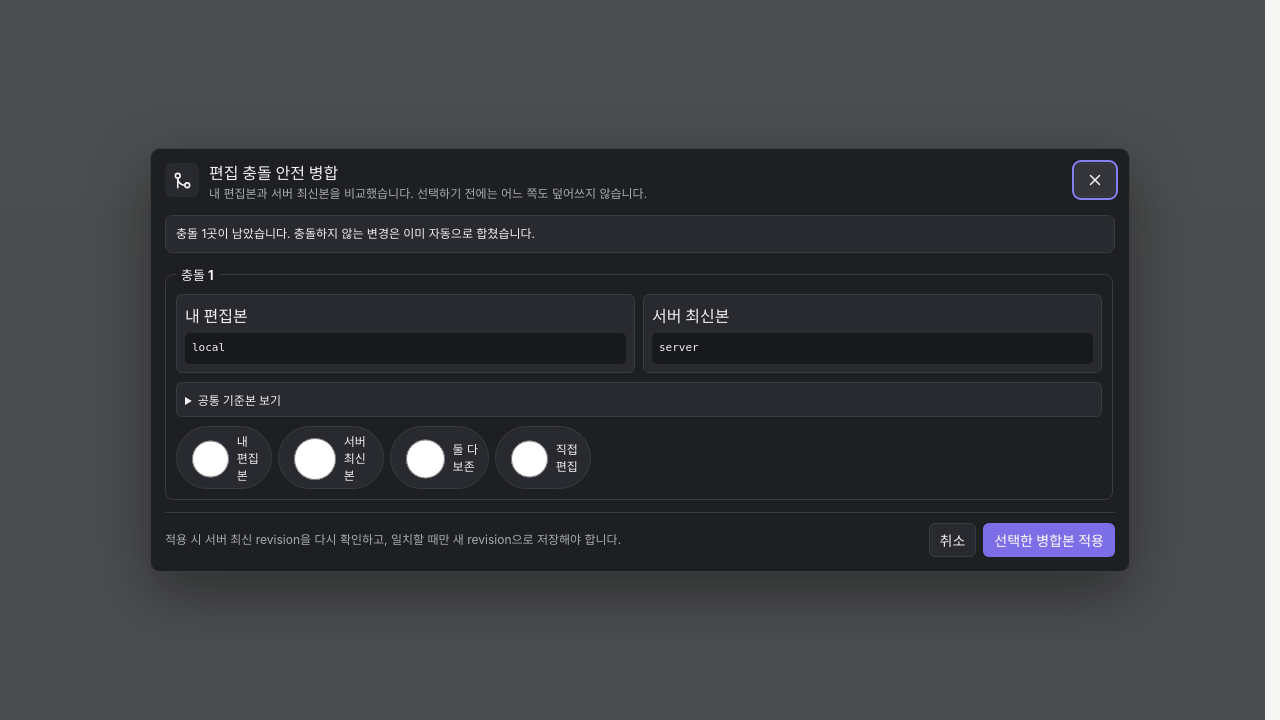
it: VaultDraftConflictResolver › shows a generic save failure without rendering thrown sensitive text
Click the radio button labelled "서버 최신본" at x=315, y=458, box [294,438,336,480]
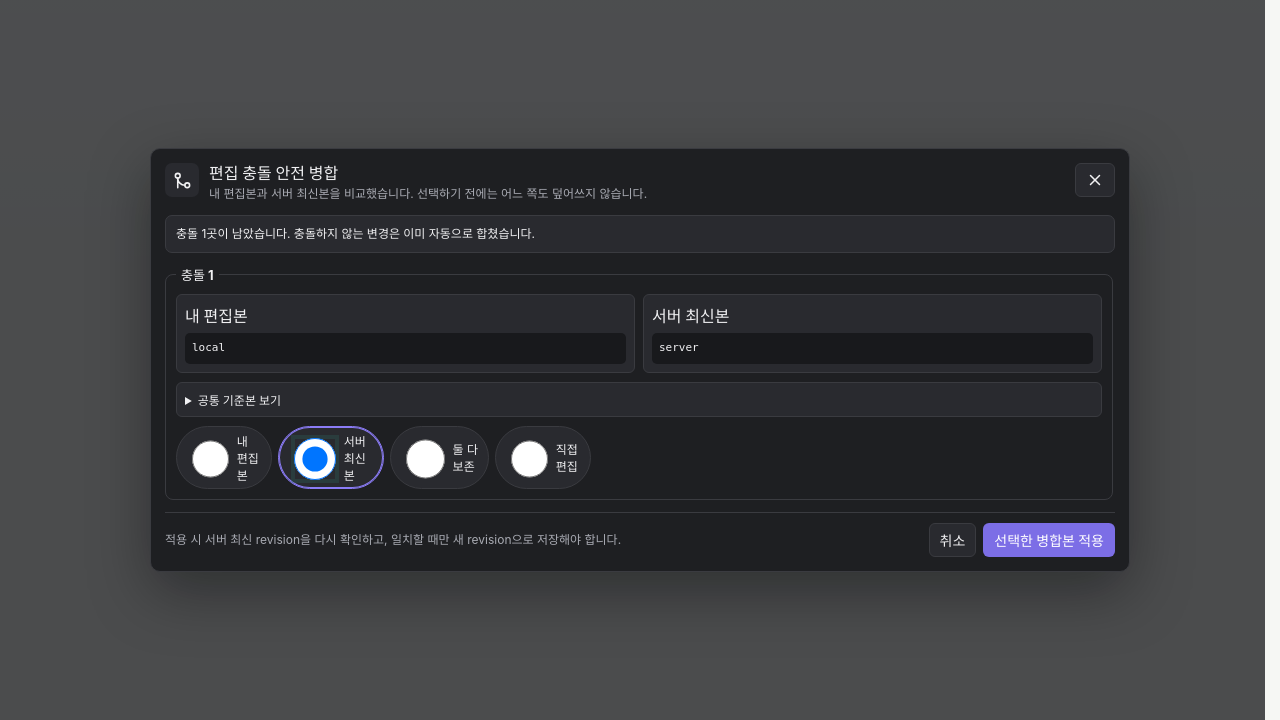
Click the button "선택한 병합본 적용" at x=1049, y=540, box [983,522,1115,556]
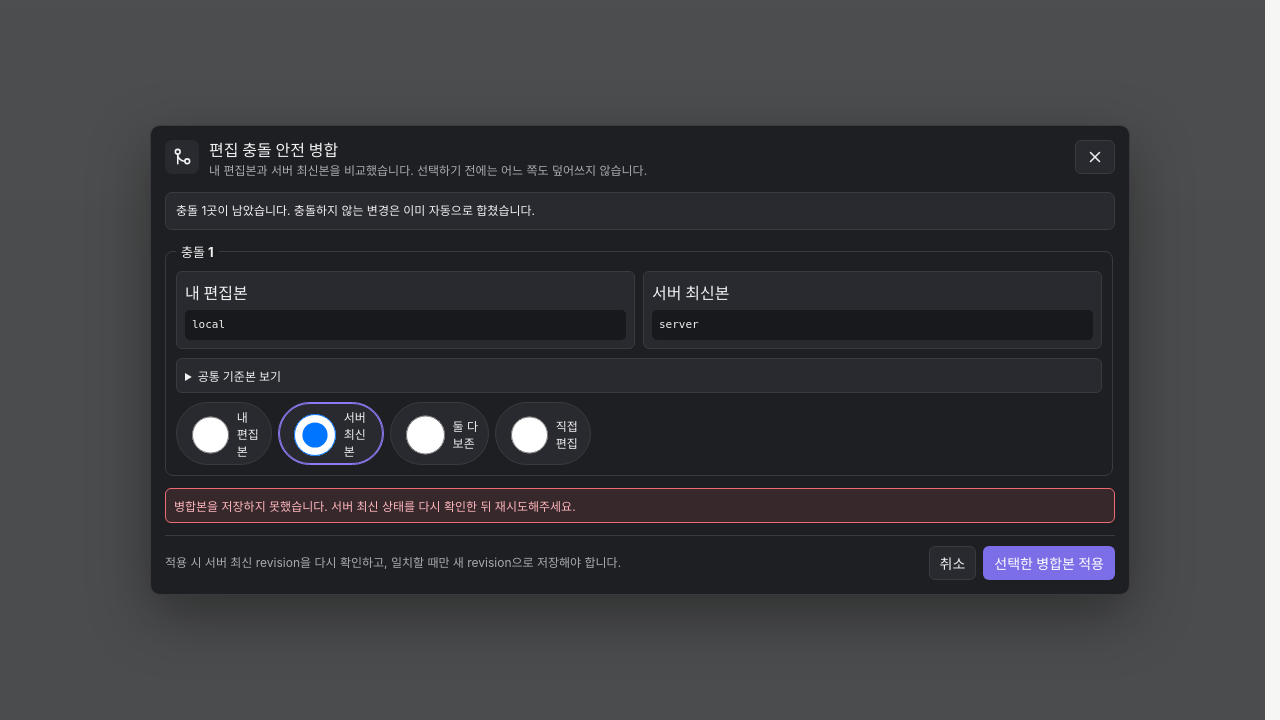
Expected: the message "병합본을 저장하지 못했습니다. 서버 최신 상태를 다시 확인한 뒤 재시도해주세요." is shown, [165,488,1115,523]
